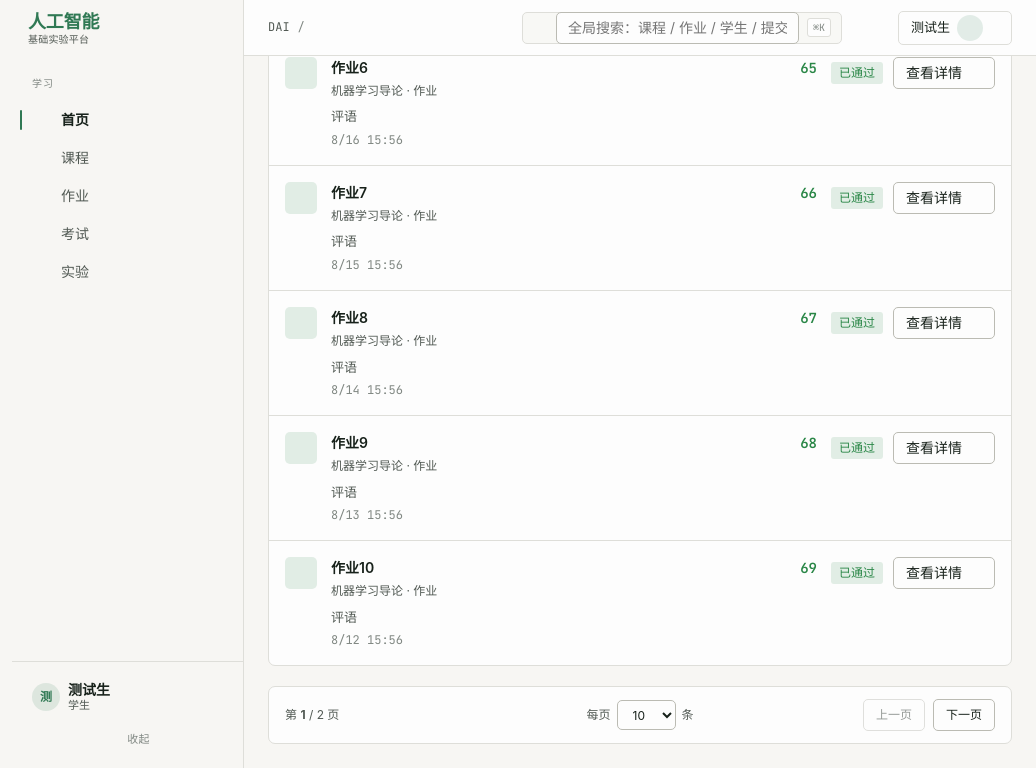
提交与反馈 FeedbackListView（参考图 01） › 分页页脚可见且一页时也连贯
(page scrolled)
Expected: the footer is shown, [268,686,1012,744]
Click the button with class "next-page" at point(964, 715), box [933,699,995,731]
(page scrolled)
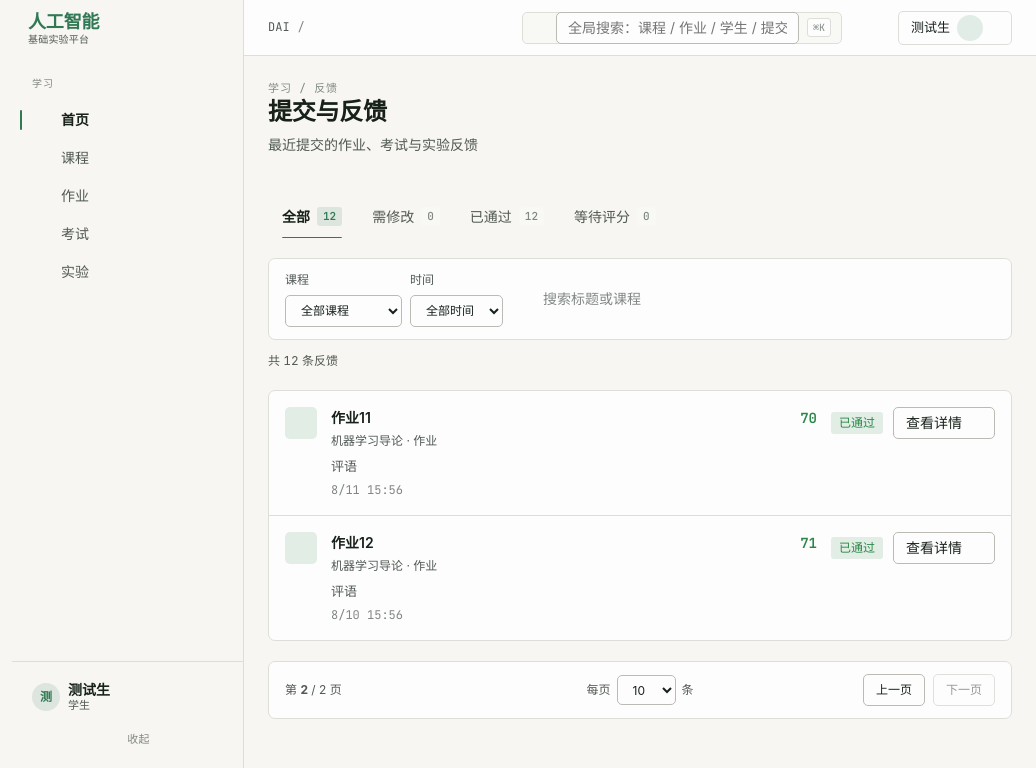
Expected: the number of elements with class "feedback-row" is 2, [269,391,1011,516]; [269,516,1011,640]
Expected: the text "2 / 2" is shown, [285,682,342,697]
